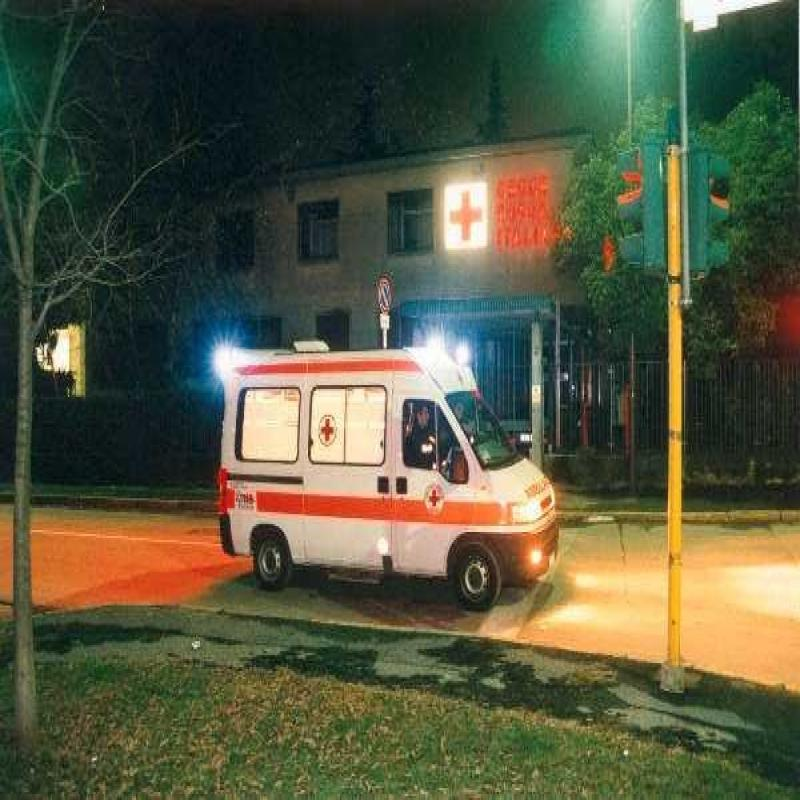ambulance: (211, 350, 562, 626)
